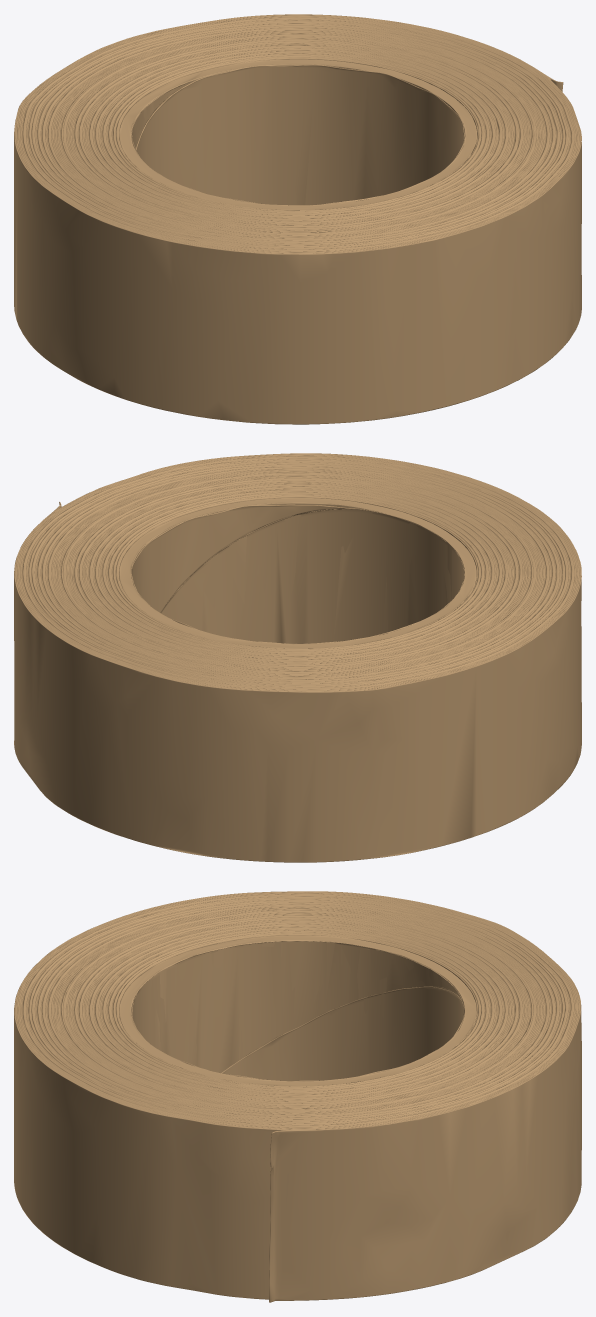
The model's file is tool_tape_duct_a03.glb.
3 views of the same model, one above another, from view 1: azimuth 30°, elevation 25°; view 2: azimuth 150°, elevation 25°; view 3: azimuth 270°, elevation 25° (orthographic).
Bounding box in the file's own units: 0.1378 × 0.0457 × 0.1362.
